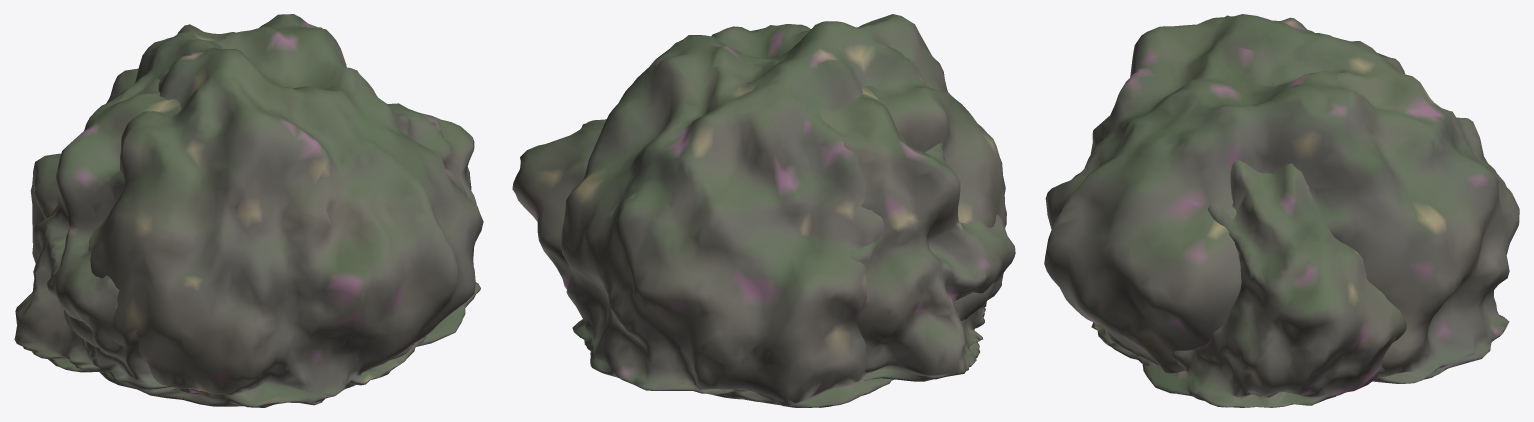
File: reef.glb
The picture shows the model from 3 angles, left to right: view 1: azimuth 30°, elevation 25°; view 2: azimuth 150°, elevation 25°; view 3: azimuth 270°, elevation 25°; orthographic projection.
Visible parts, largest first — view 1: cliff1, cliff0; view 2: cliff1, cliff0; view 3: cliff1, cliff0.
Boxes of the visible parts, box(x1,y1,x2,y2) form: cliff1: box(30, 14, 483, 407); cliff0: box(14, 78, 480, 389); cliff1: box(560, 14, 1006, 407); cliff0: box(512, 86, 1015, 381); cliff1: box(1044, 14, 1519, 383); cliff0: box(1105, 29, 1406, 407).
Bounding box in the file's own units: 3.27 × 2.15 × 3.02.
